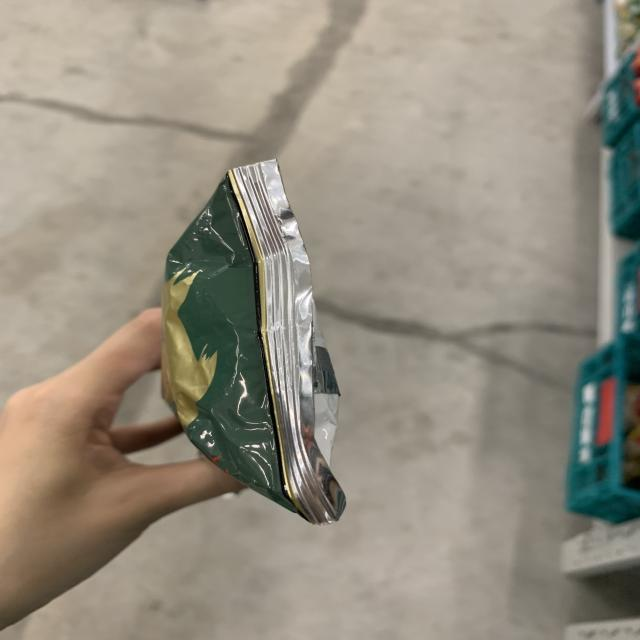object_name: (155, 184, 339, 510)
